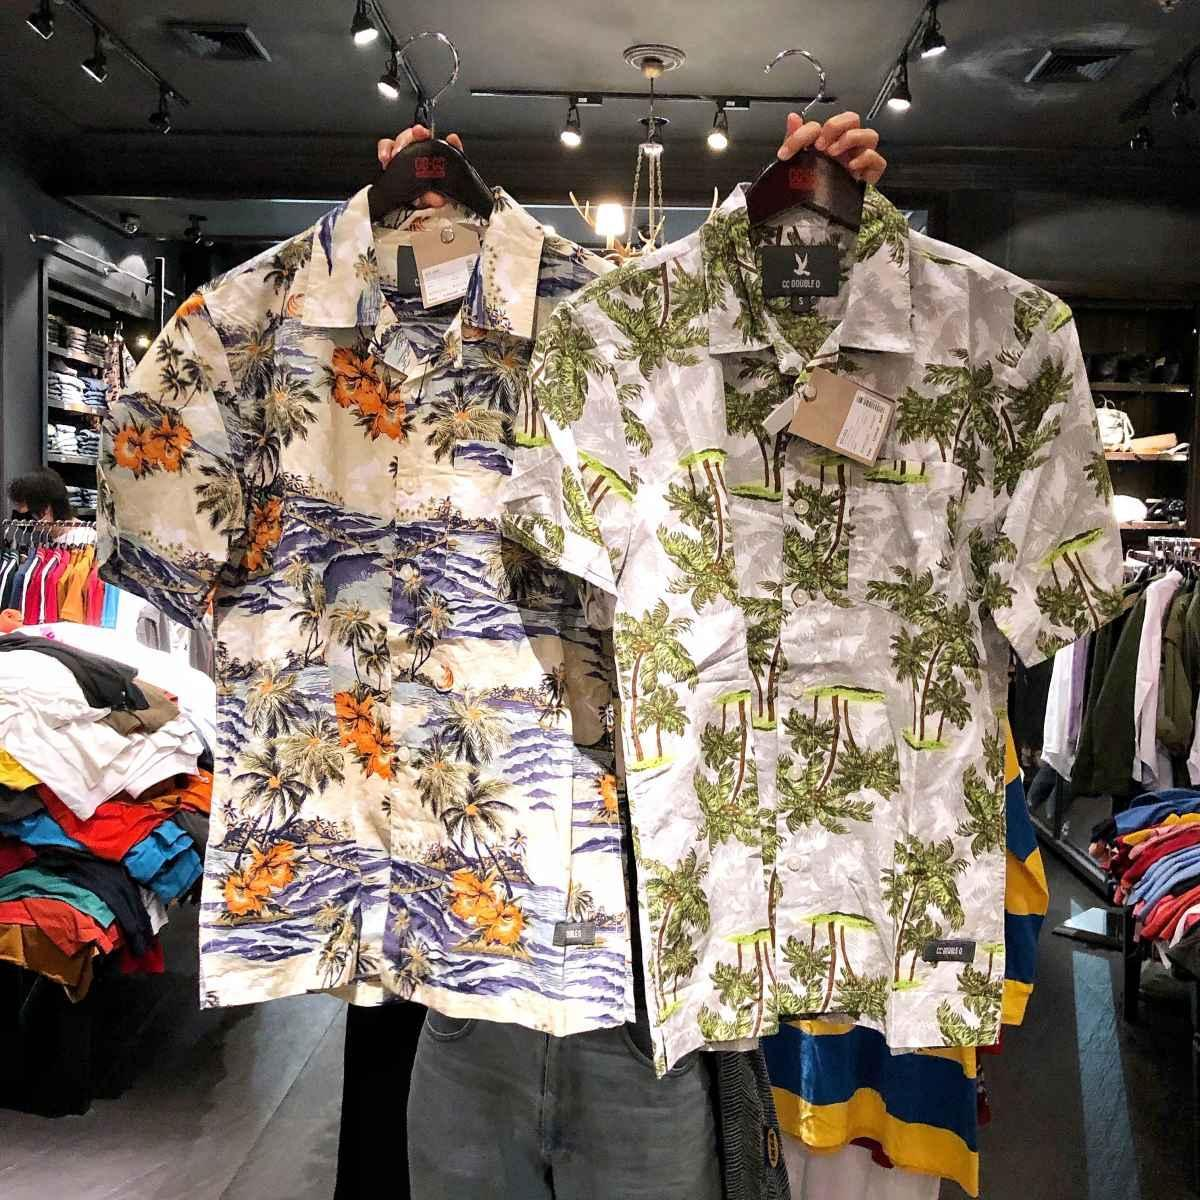shirt: (488, 218, 1109, 1068), (93, 211, 718, 1053)
